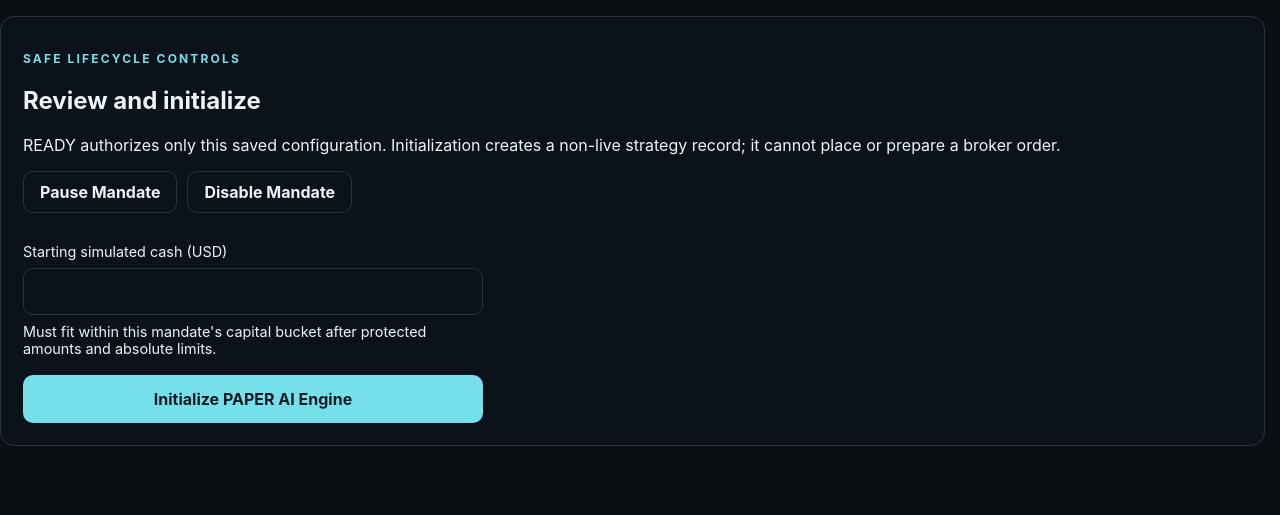
Scenario: MandateControls › initializes an AI Paper engine with isolated simulated cash
This screenshot has width=1280, height=515.
In the number field labelled "Starting simulated cash": coordinates (253, 291) [23, 268, 483, 315], type "900"
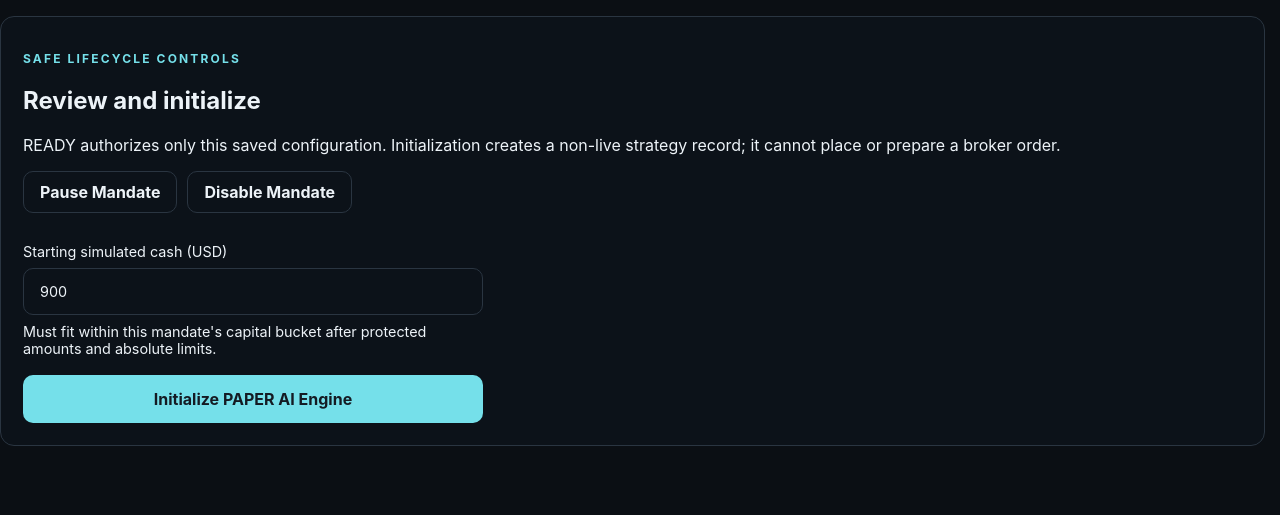
Click the button "Initialize PAPER AI Engine": coordinates (253, 399) [23, 375, 483, 423]
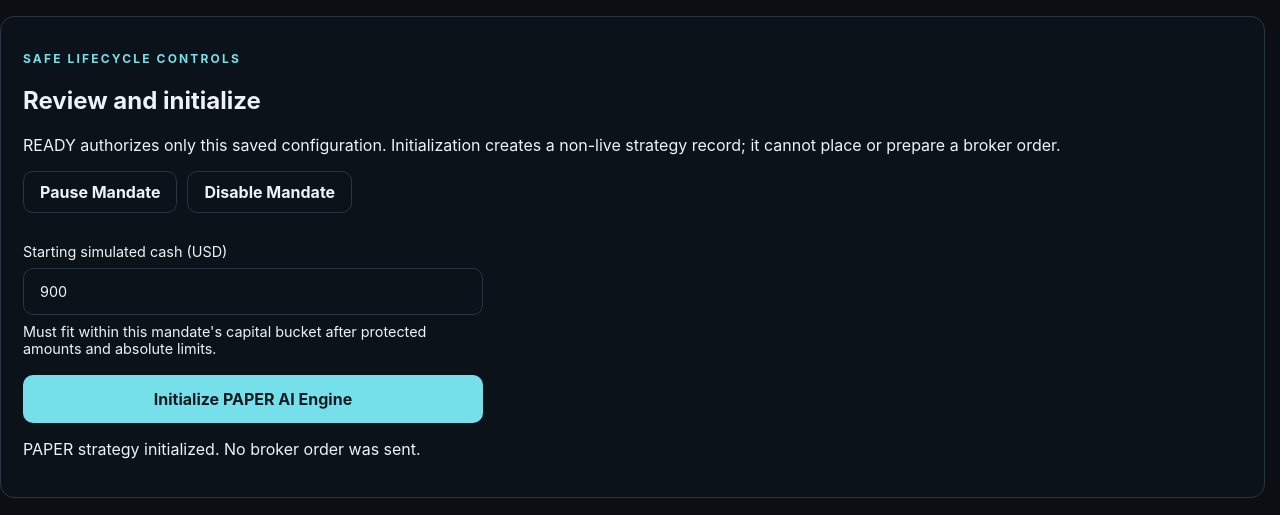
Result: the text "PAPER strategy initialized. No broker order was sent." is shown at [23, 439, 421, 459]
